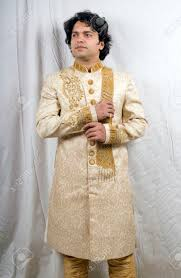Indian_Male: (61, 20, 102, 54)
